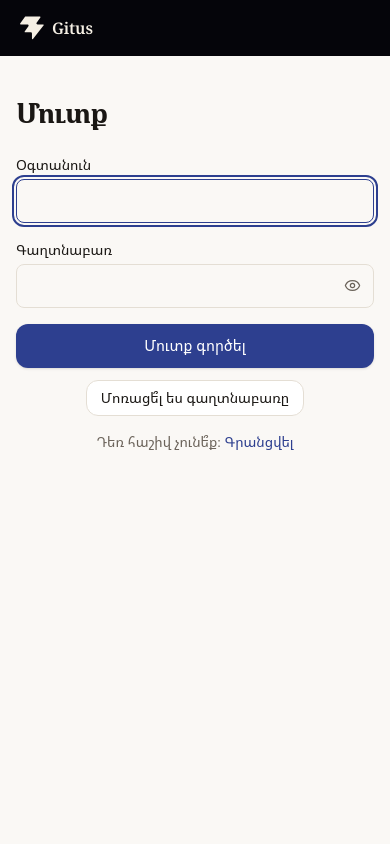
Test case: LoginPage — device limit eviction › tells the user which device was signed out to make room
The image size is (390, 844).
In the field labelled "Օգտանուն": (195, 201) [16,179,374,223], type "student1"
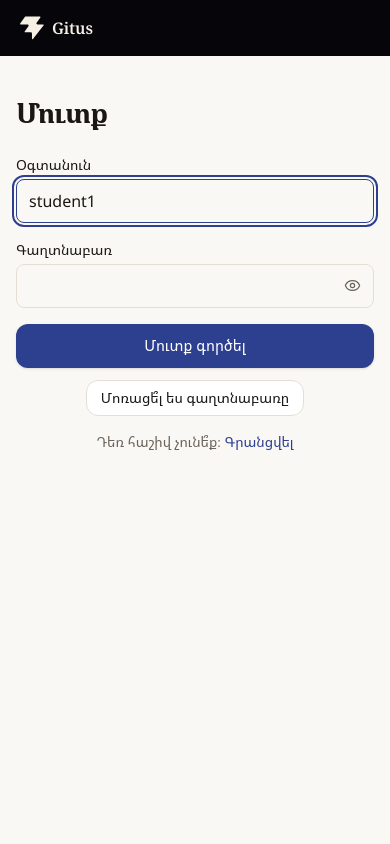
In the password field labelled "Գաղտնաբառ": (195, 286) [16,264,374,308], type "hunter2222"
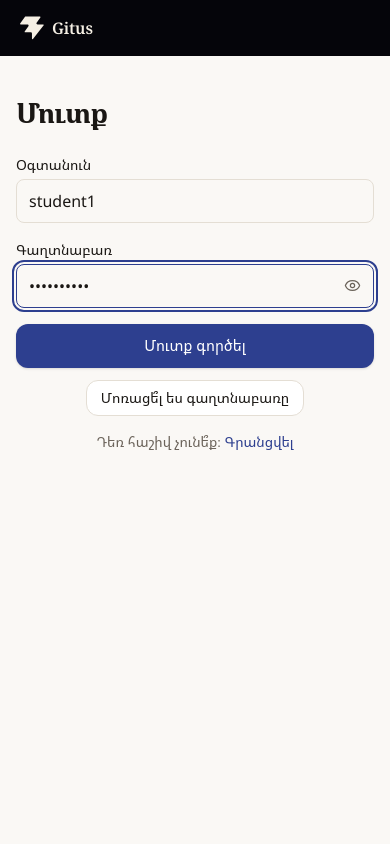
Click the button "Մուտք գործել": (195, 346) [16,324,374,368]
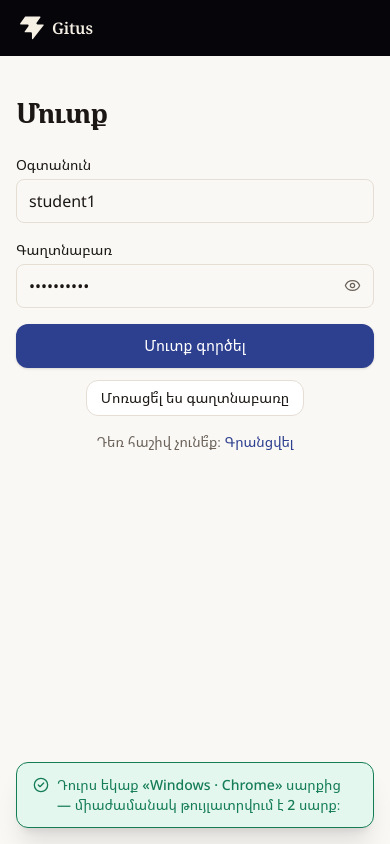
Check: the message shows "Windows · Chrome", box [57,775,341,814]
Check: the message shows "2 սարք", box [57,775,341,814]
